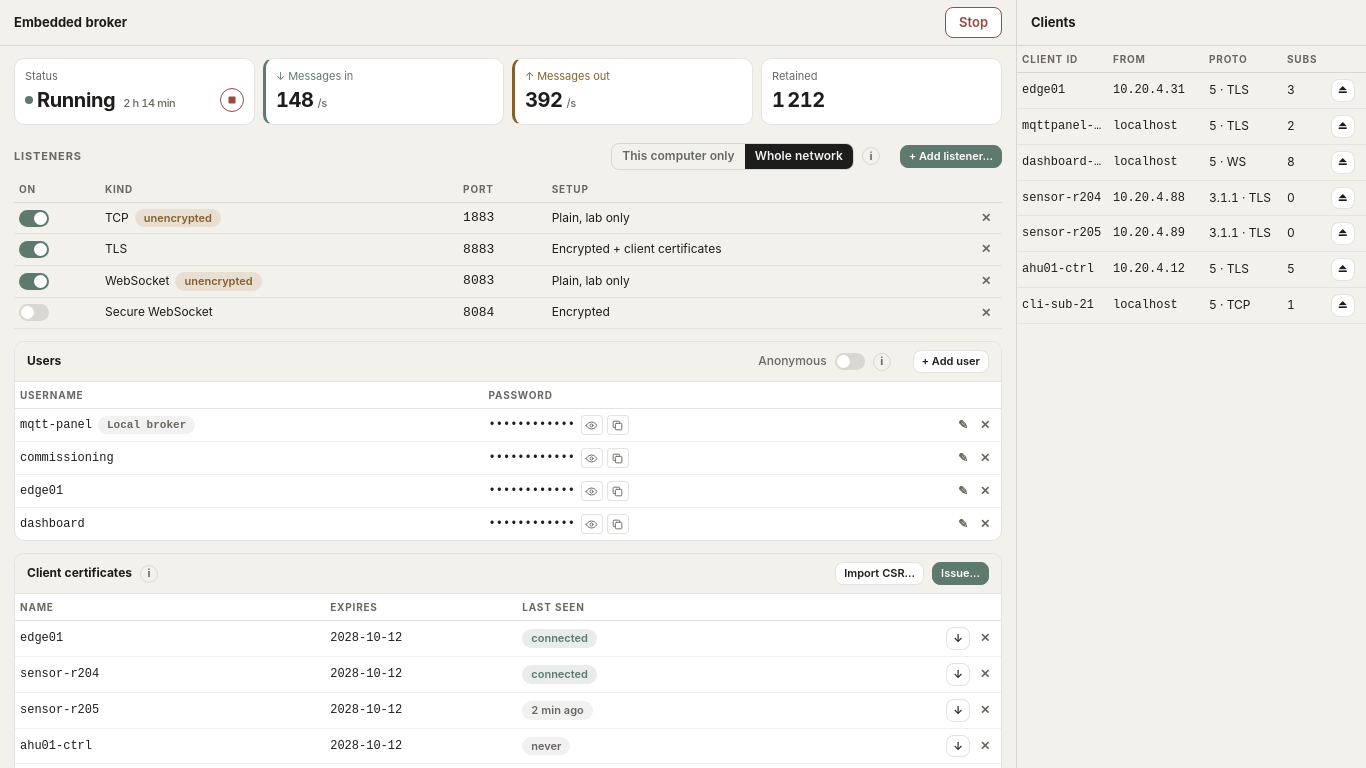
Test: Change set 7: download menu on certificate rows (B-26) › one ↓ button per row opens PEM / PKCS#12…; PEM exports at once, PKCS#12… asks for the passphrase
This screenshot has width=1366, height=768.
Expected: the row with test id "listener-row" that starts with "TCP" is shown, [14, 202, 1002, 234]
Expected: the text "PEM" is not shown
Click the 1st button with test id "cert-export": coordinates (958, 638) [946, 627, 970, 650]
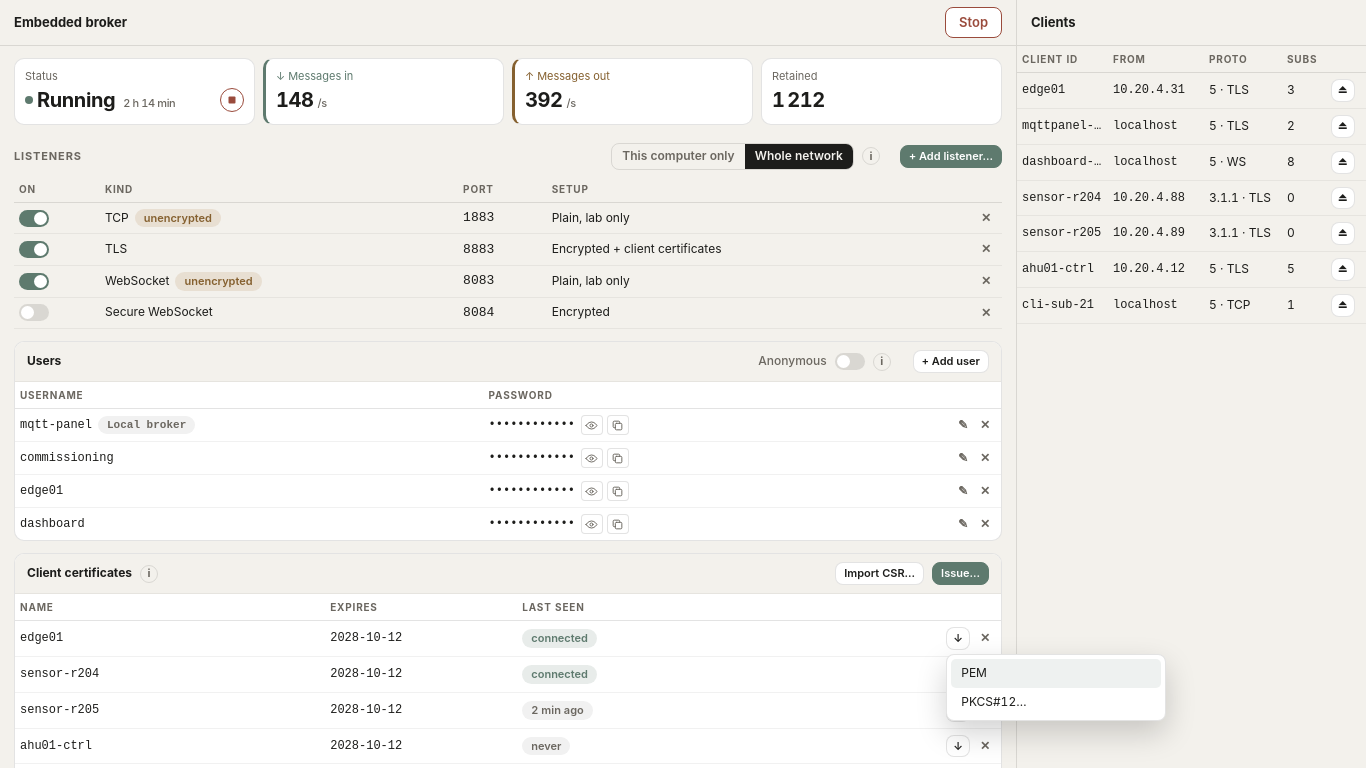
Click the menu item "PEM": coordinates (1056, 673) [951, 659, 1161, 688]
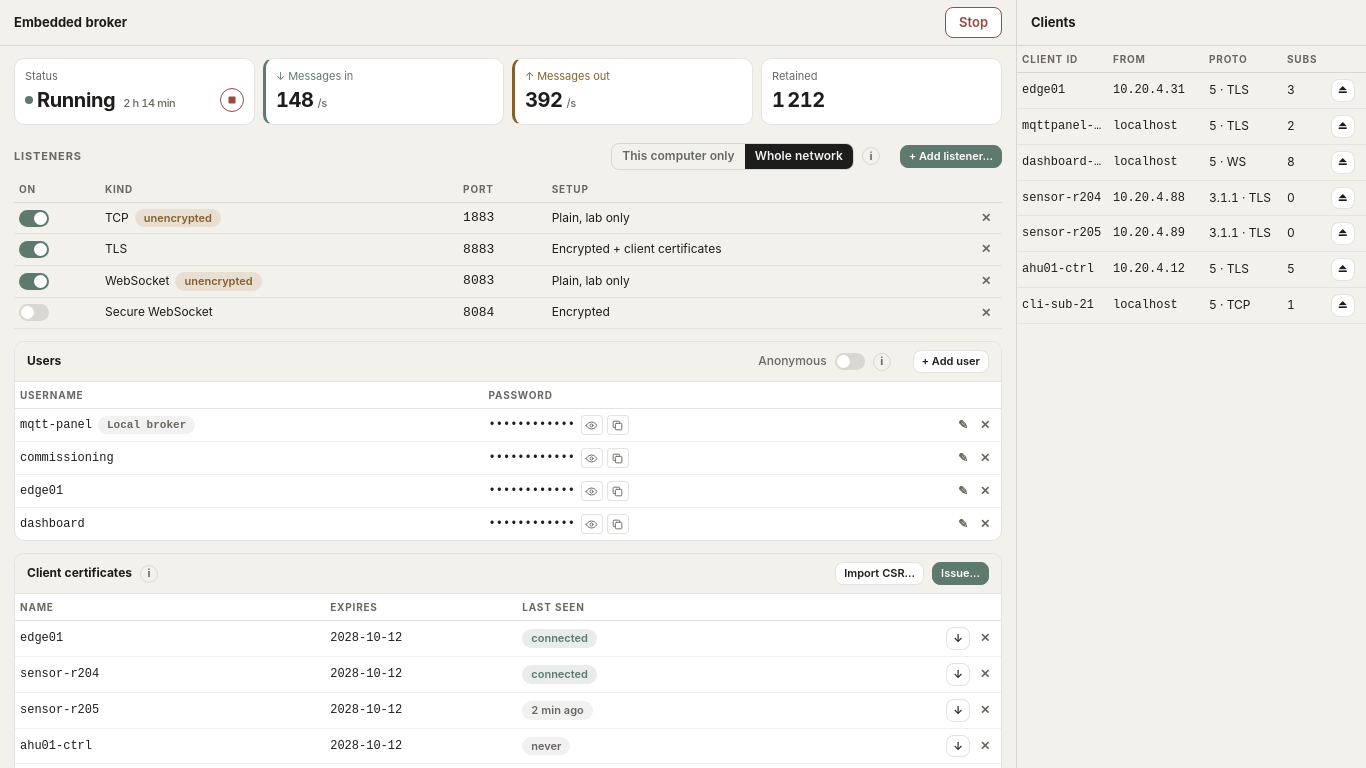
Click the 1st button with test id "cert-export": coordinates (958, 638) [946, 627, 970, 650]
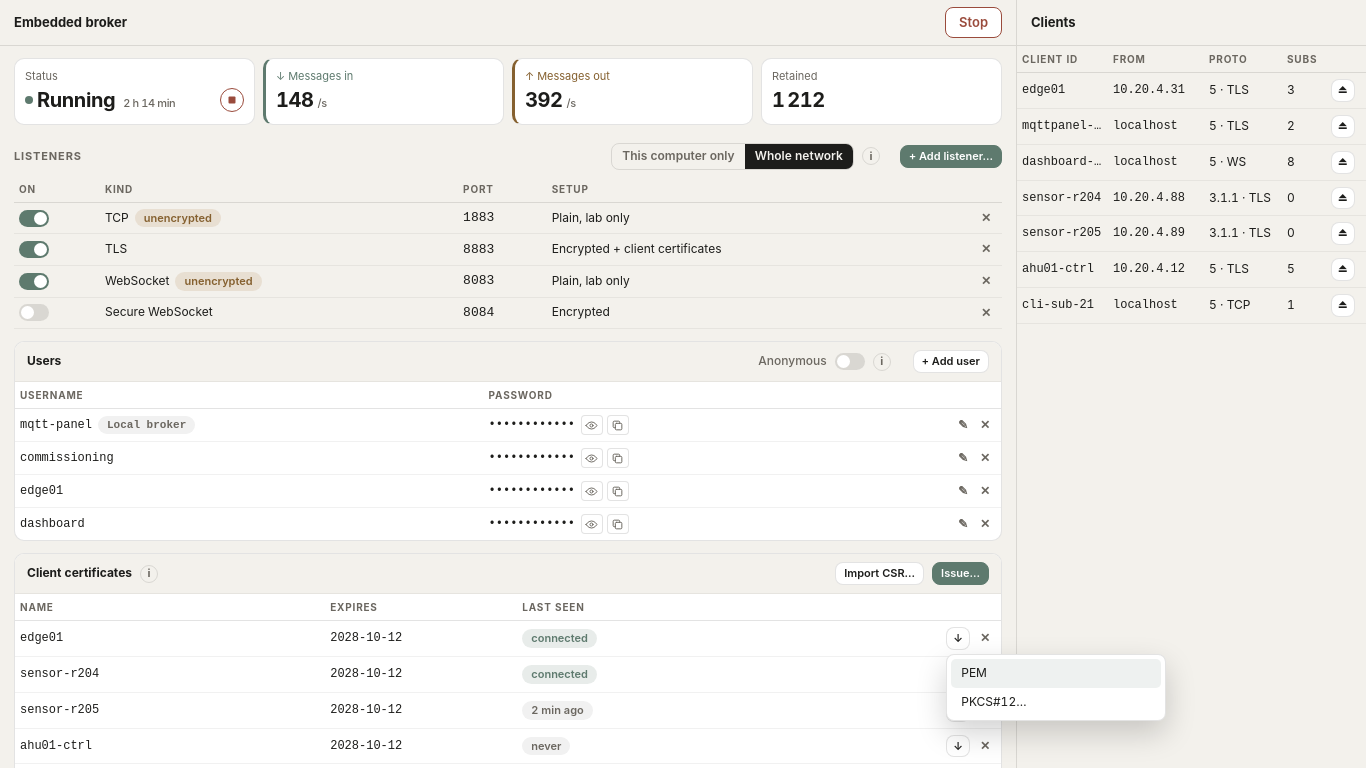
Click the menu item "PKCS#12…": coordinates (994, 701) [961, 694, 1026, 709]
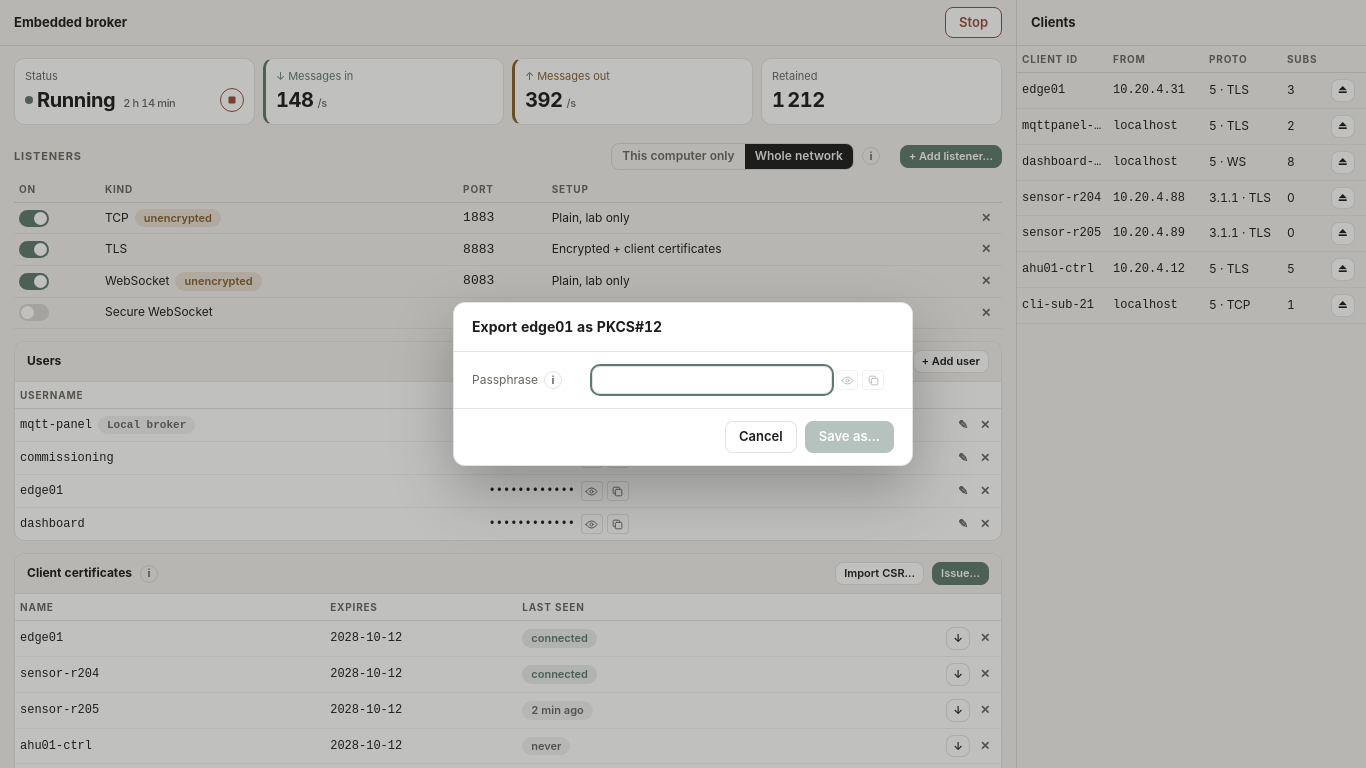
Expected: the text "Export edge01 as PKCS#12" is shown, [454, 303, 912, 352]
Expected: the password field with test id "p12-passphrase" is shown, [592, 366, 832, 394]
